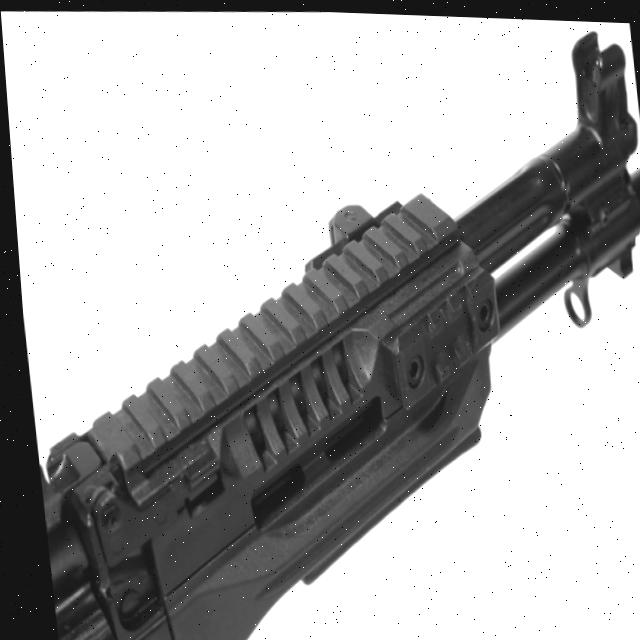firearm: (0, 7, 640, 640)
